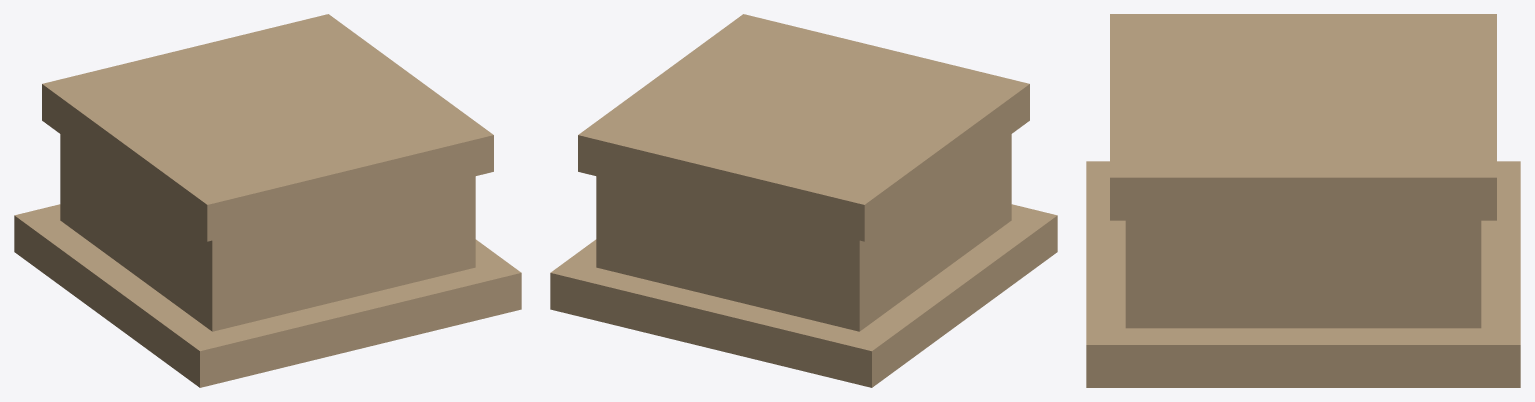
The model's file is pallet_stack.gltf.
3 views of the same model, side by side, from view 1: azimuth 30°, elevation 25°; view 2: azimuth 150°, elevation 25°; view 3: azimuth 270°, elevation 25° (orthographic). The views are drawn at different scales.
Size of the model in its own units: 1.1 by 0.56 by 1.1.
